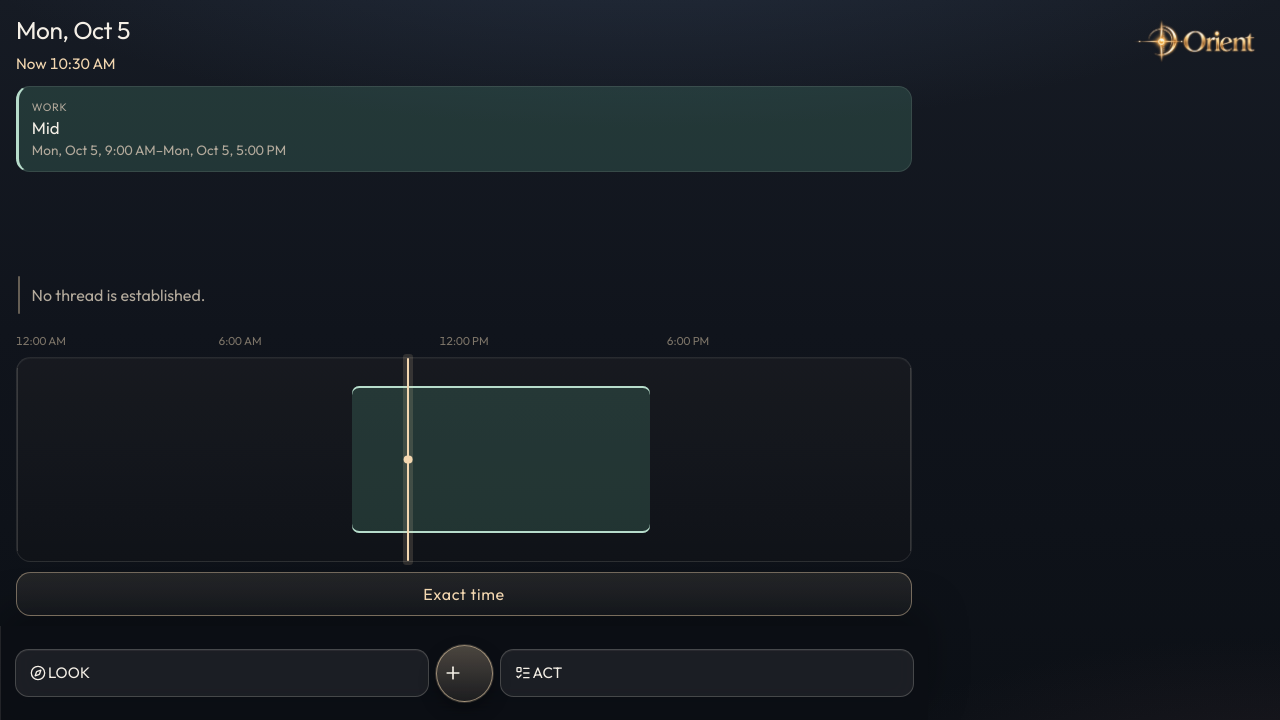
Test: all-day authority reachability › exposes all-day establishment on phone ADD without LOOK · + · ACT redesign
The width and height of the screenshot is (1280, 720).
Expected: the element showing "LOOK ACT" is shown, [15,645,914,702]
Expected: the button "LOOK" is shown, [15,649,429,697]
Click the button named "ADD".
click(464, 673)  # box [436,645,493,702]
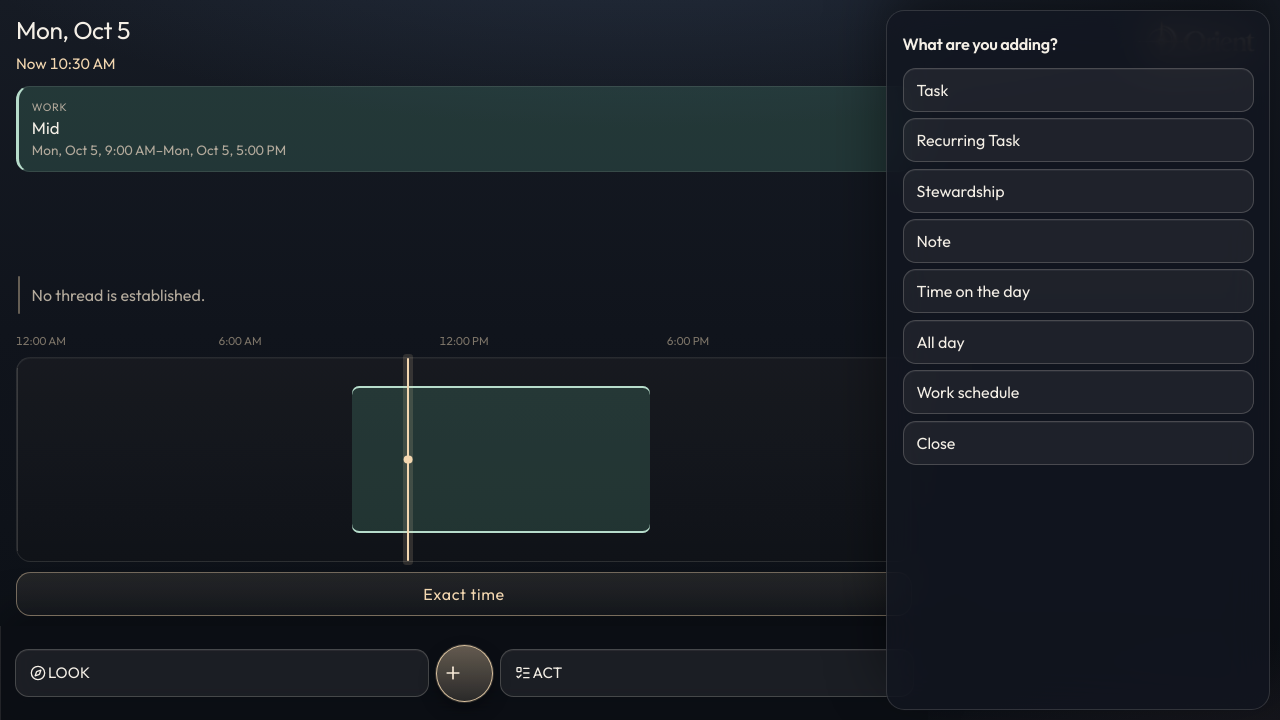
Result: the element that starts with "What are you adding?" is shown at [903,32,1254,465]
Click the button "All day".
click(941, 342)  # box [903,320,1254,364]
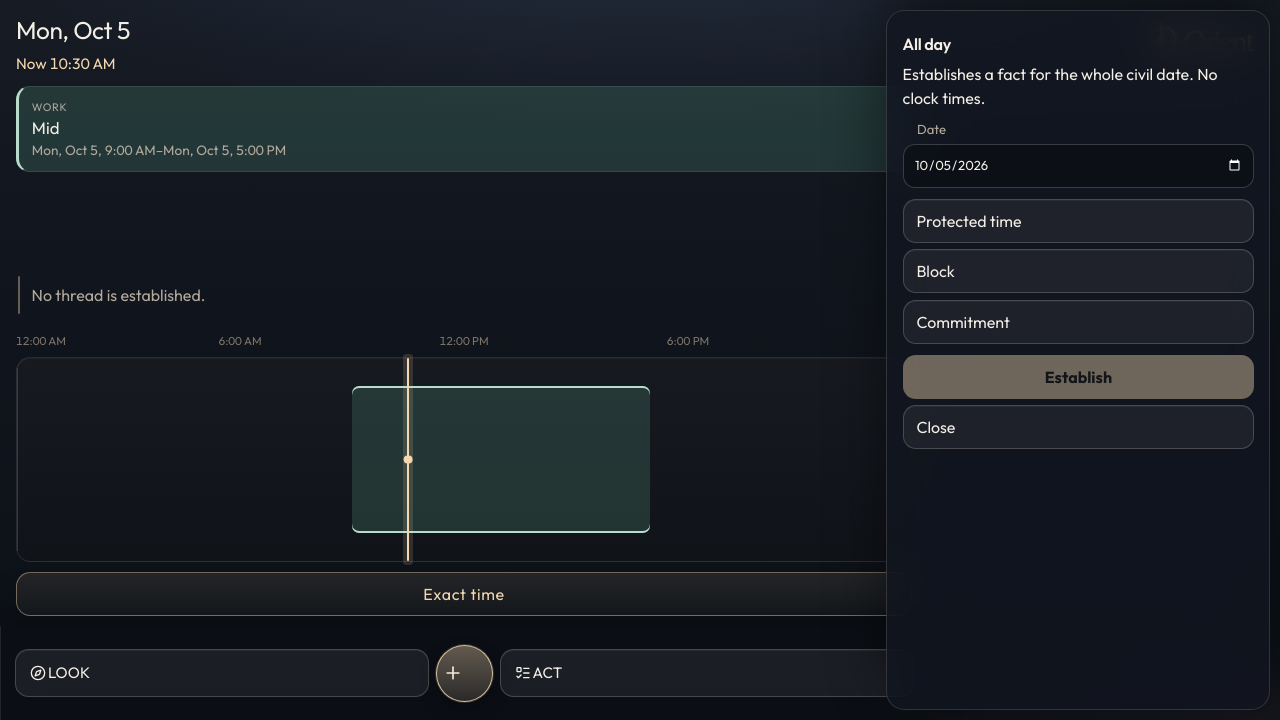
Result: the element that starts with "All day" is shown at [903,32,1254,449]
Result: the text "No clock times" is shown at [903,64,1218,108]
